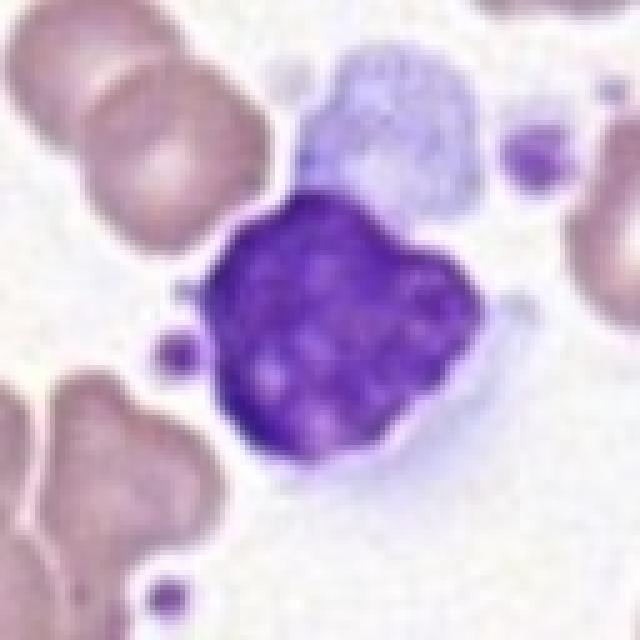lympho: (185, 32, 548, 521)
